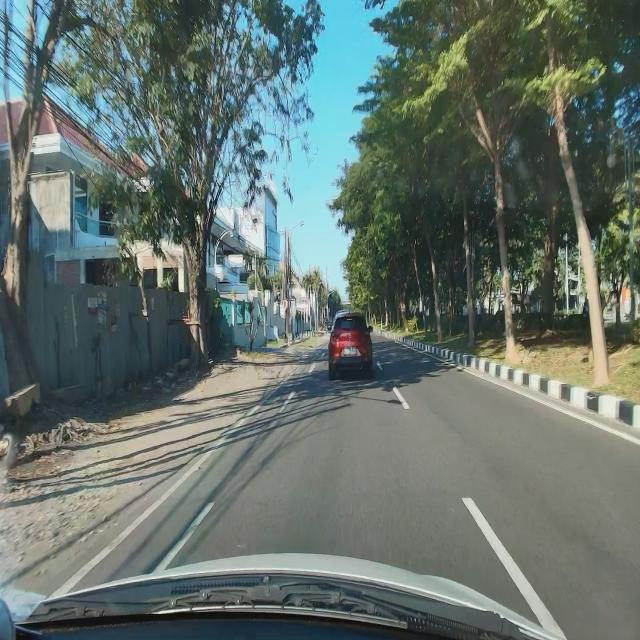car: (328, 311, 374, 381)
license-plate: (344, 346, 356, 356)
